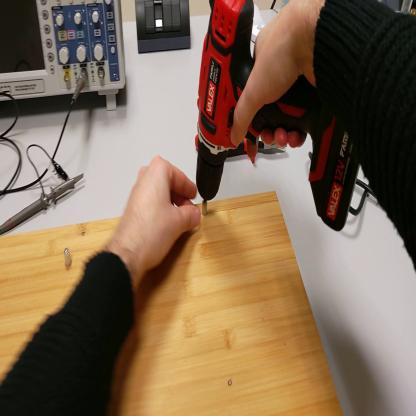electric screwdriver: (195, 2, 361, 231)
hand: (231, 7, 319, 159), (121, 158, 202, 270)
oscilloscope: (1, 2, 126, 112)
oscilloscope probe tip: (2, 175, 83, 234)
pliers: (195, 136, 288, 158)
working area: (1, 192, 342, 416)
